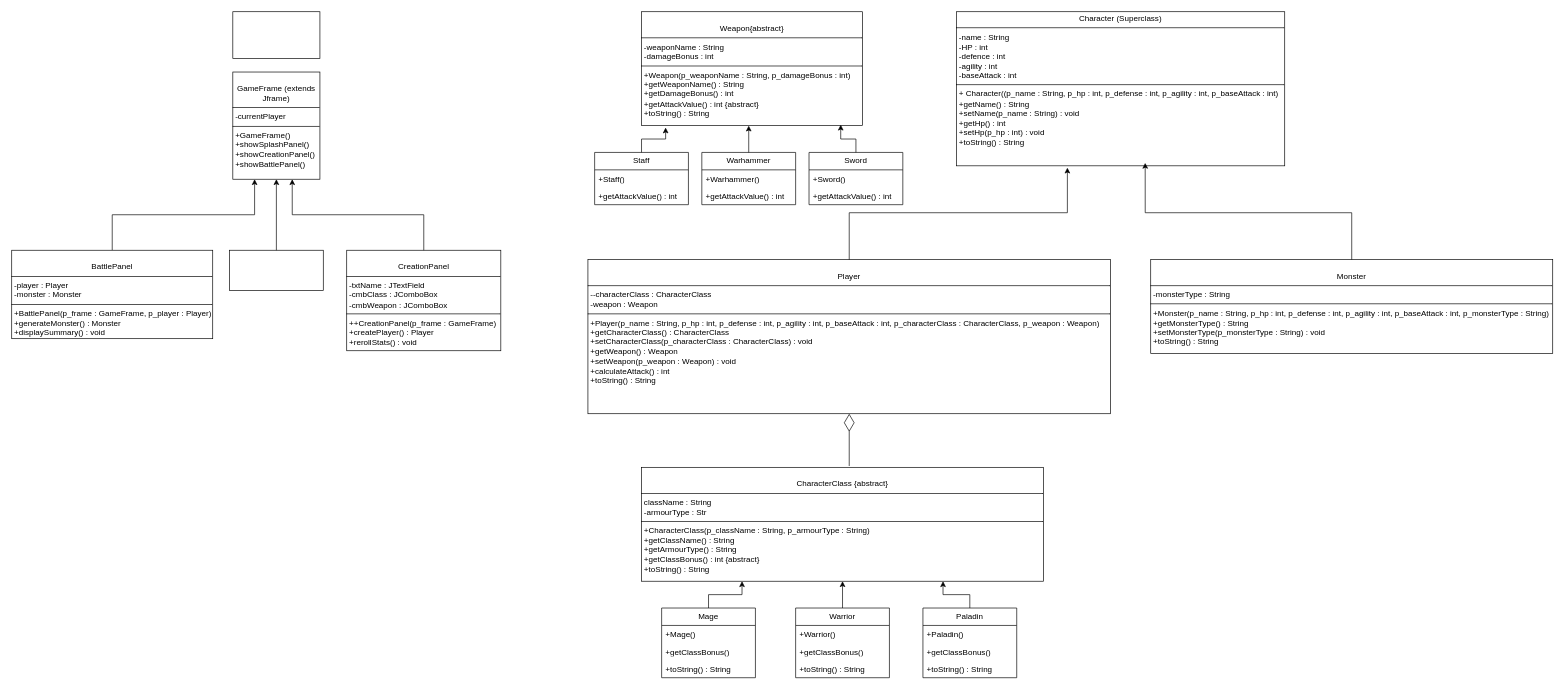
Image size: 1564x691. Some labels were removed from this diagram. The centre of each missing label's shape, as x and y in pixels:
"JFrame -X +X" belongs at pixel 276 35.
"SplashPanel +SplashPanel(p_frame : GameFrame)" belongs at pixel 276 270.
